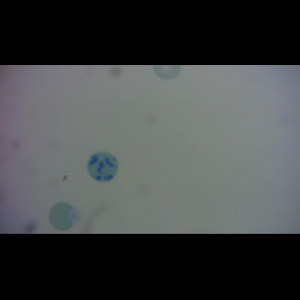aggregate reticulocyte: (86, 151, 120, 182)
erythrocyte: (48, 201, 82, 233)
